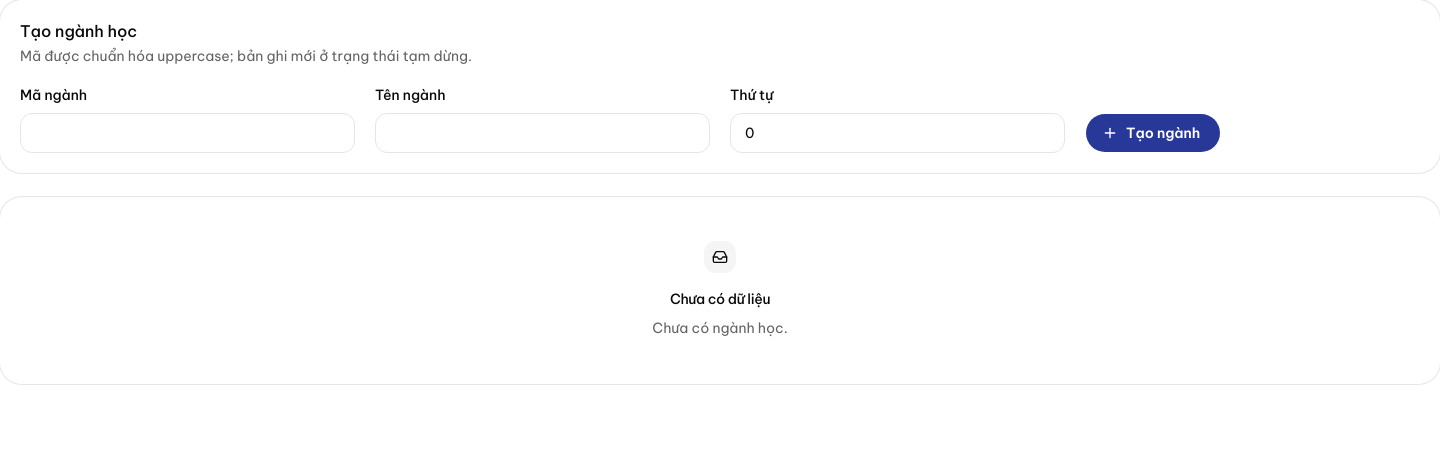
Test: catalog creation forms › resets the major form after a successful asynchronous request
Type "MN01" into the field labelled "Mã ngành" at (188, 133), box [20,113,355,153]
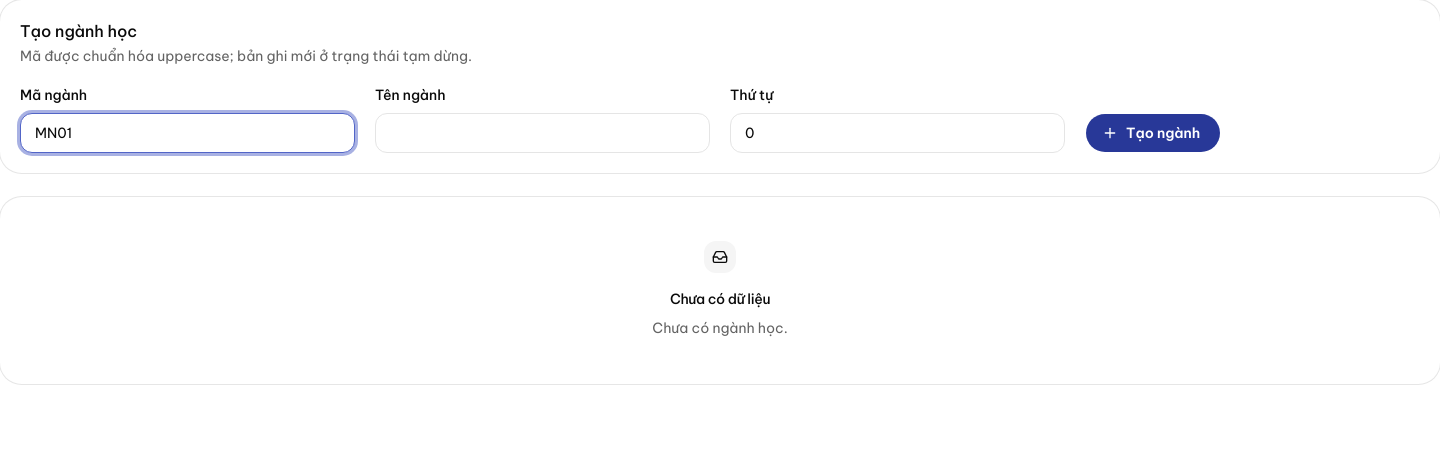
Type "Luật" into the field labelled "Tên ngành" at (542, 133), box [375,113,710,153]
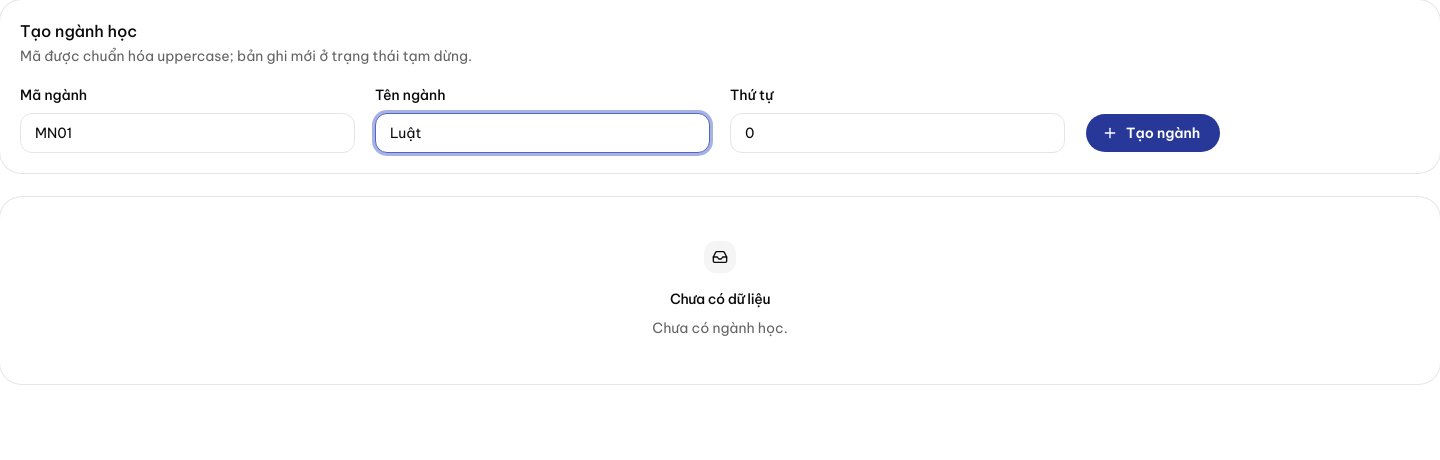
Replace the text in the number field labelled "Thứ tự" with "1" at (898, 133), box [730,113,1065,153]
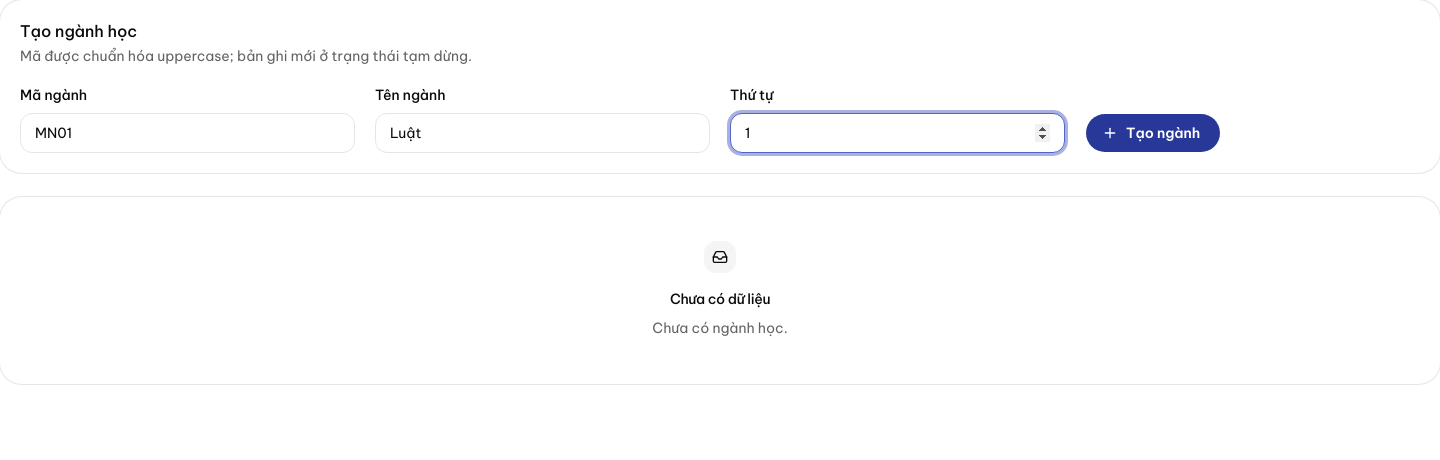
Click the button "Tạo ngành" at (1153, 133), box [1085,113,1221,153]
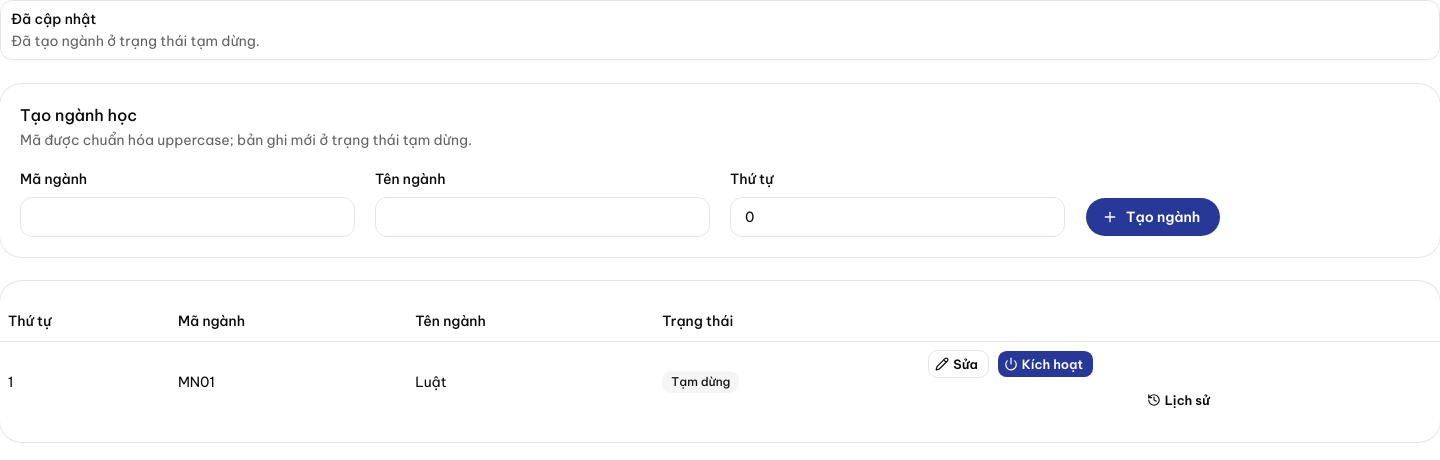
Check: the text "Đã tạo ngành ở trạng thái tạm dừng." is shown, box [11,32,260,50]
